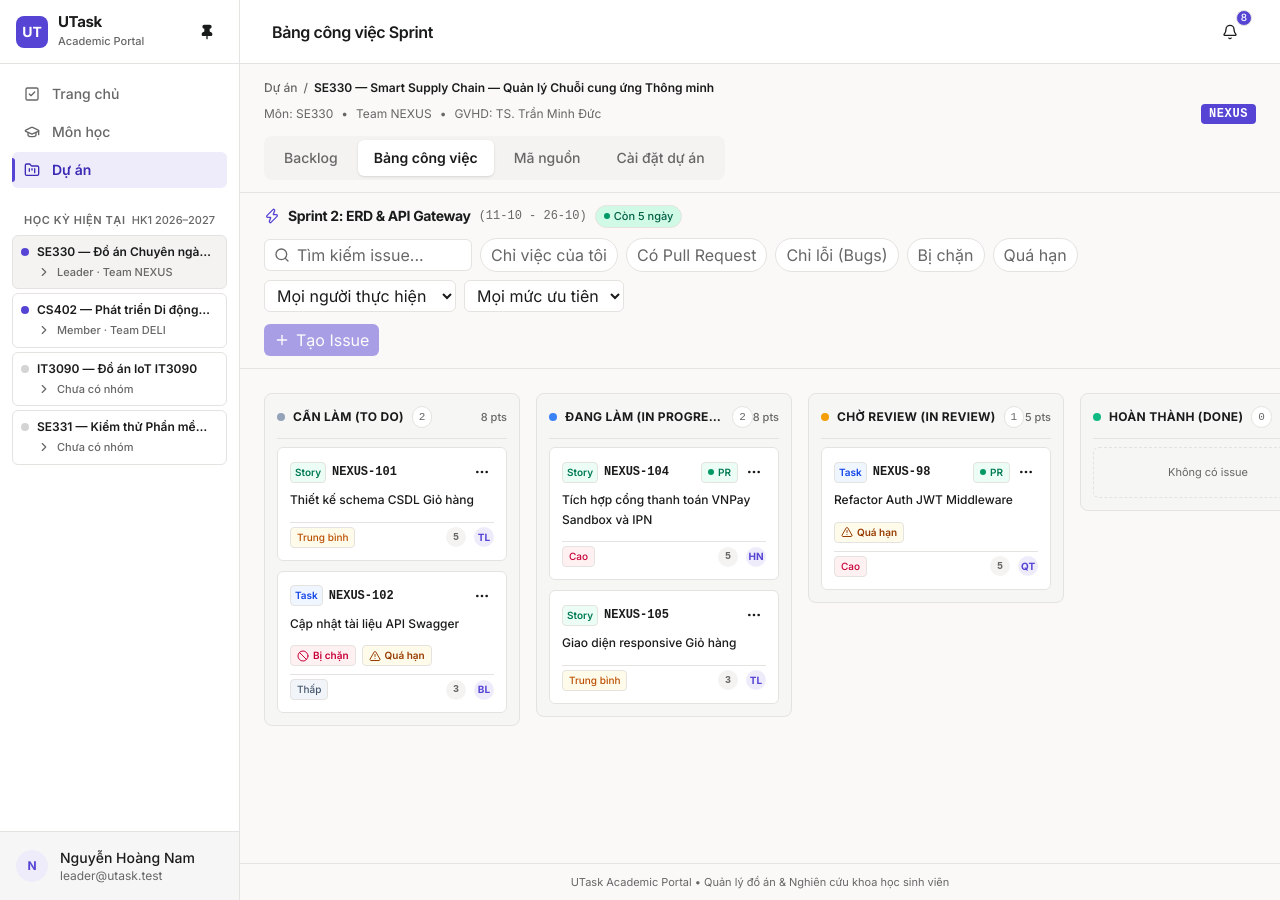
Kanban board: moving a card without dragging › puts a card back and says why when the server answers 409
Click the button named "Thao tác cho NEXUS-101" at (482, 472), box [470,460,494,484]
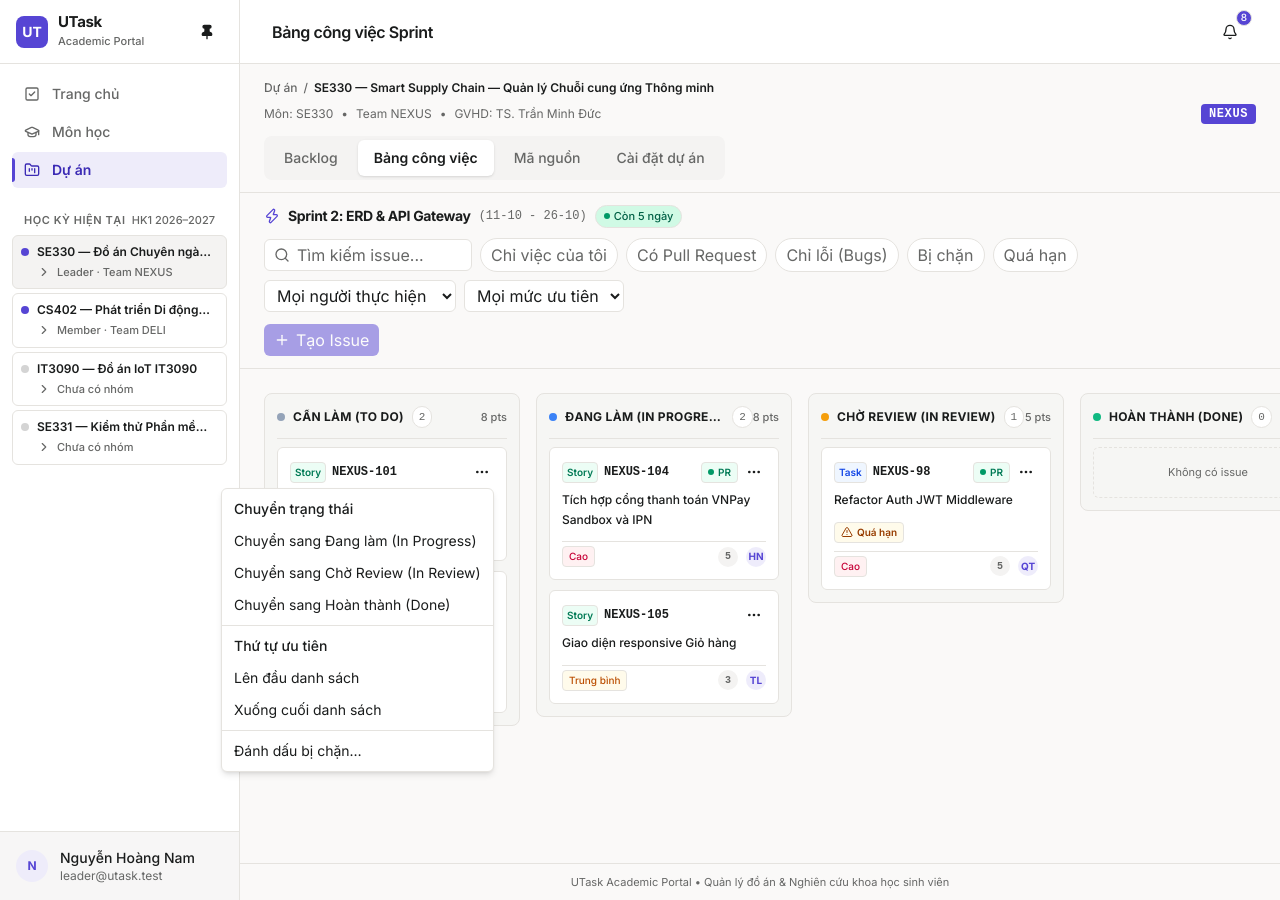
Click the menu item "Chuyển sang Đang làm (In Progress)" at (355, 540), box [234,532,477,549]
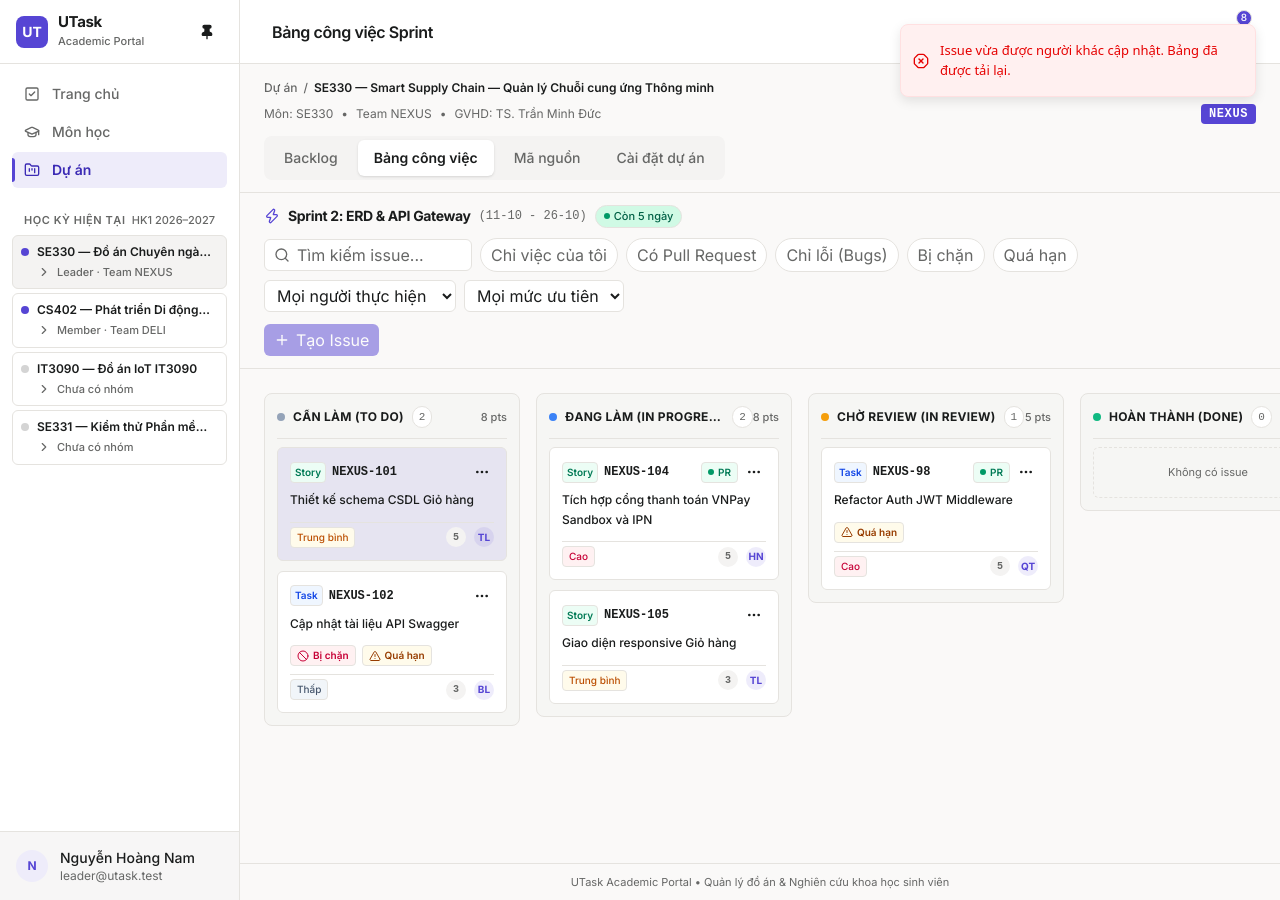
Expected: the text "NEXUS-101" is shown, [332,464,397,480]
Result: the text "Issue vừa được người khác cập nhật. Bảng đã được tải lại." is shown at [940,41,1239,80]
